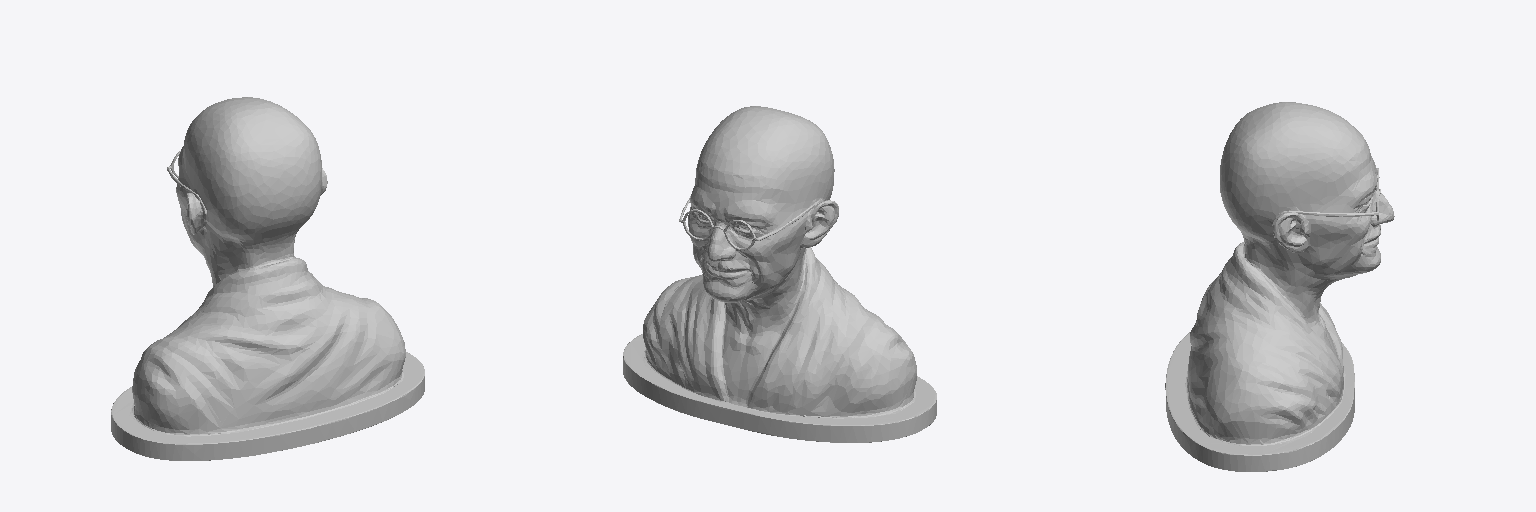
File: ghandi.obj
The picture shows the model from 3 angles: view 1: azimuth 30°, elevation 25°; view 2: azimuth 150°, elevation 25°; view 3: azimuth 270°, elevation 25°; orthographic projection.
Visible parts, largest first — view 1: 16095_MahatmaGandhi_V2; view 2: 16095_MahatmaGandhi_V2; view 3: 16095_MahatmaGandhi_V2.
Part boxes in pixels (x1,y1,x2,y2): 16095_MahatmaGandhi_V2: (111,97,424,460); 16095_MahatmaGandhi_V2: (623,106,936,442); 16095_MahatmaGandhi_V2: (1165,102,1394,471).
Size of the model in its own units: 0.4481 by 0.4262 by 0.3027.